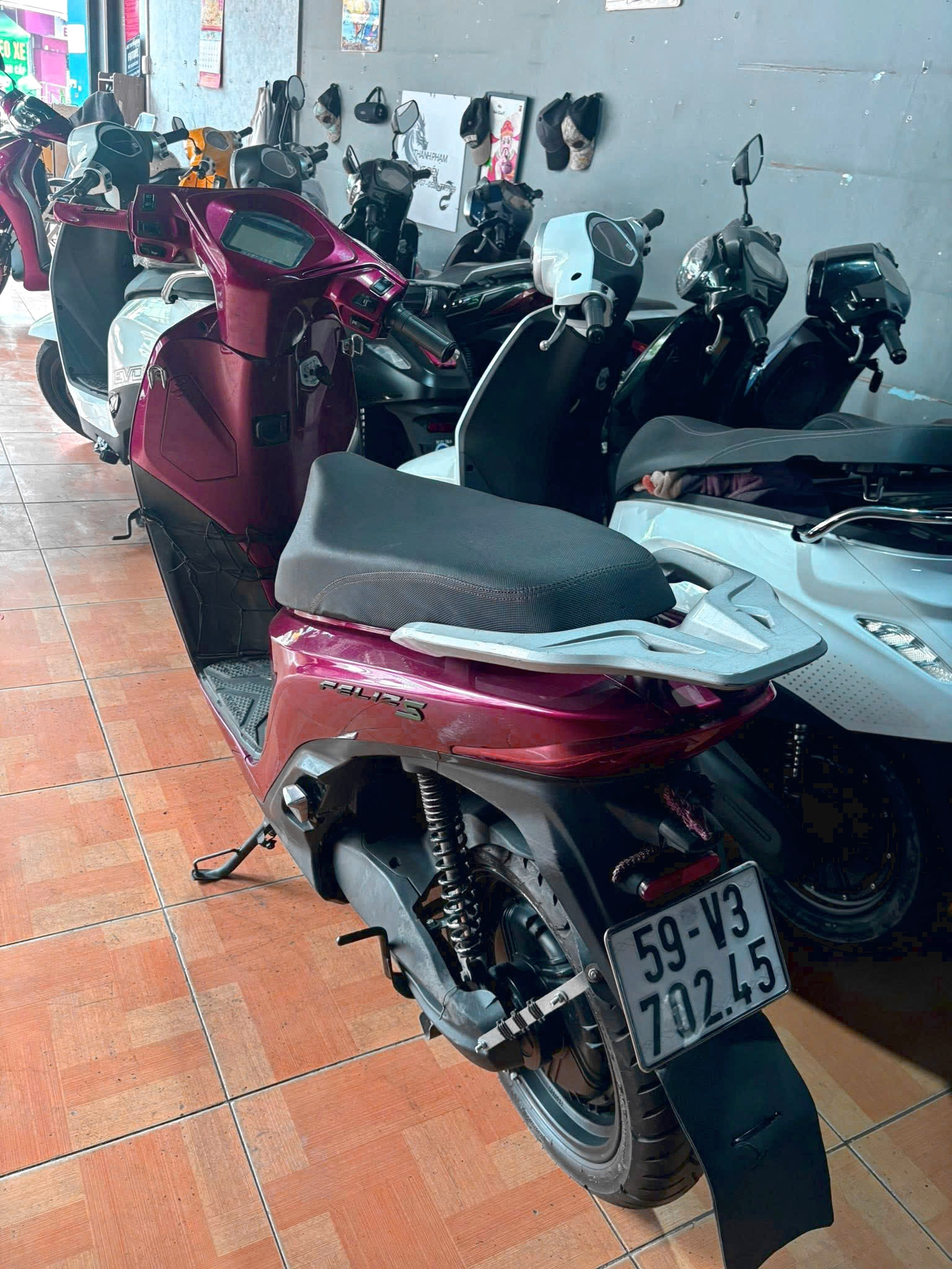Bien-so: (617, 840, 846, 1062)
